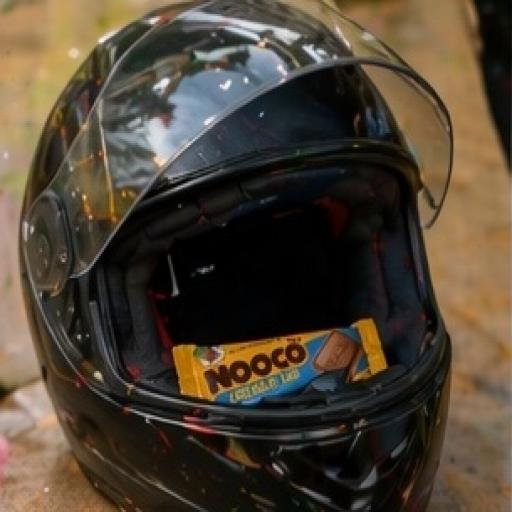nooco: (154, 279, 406, 441)
